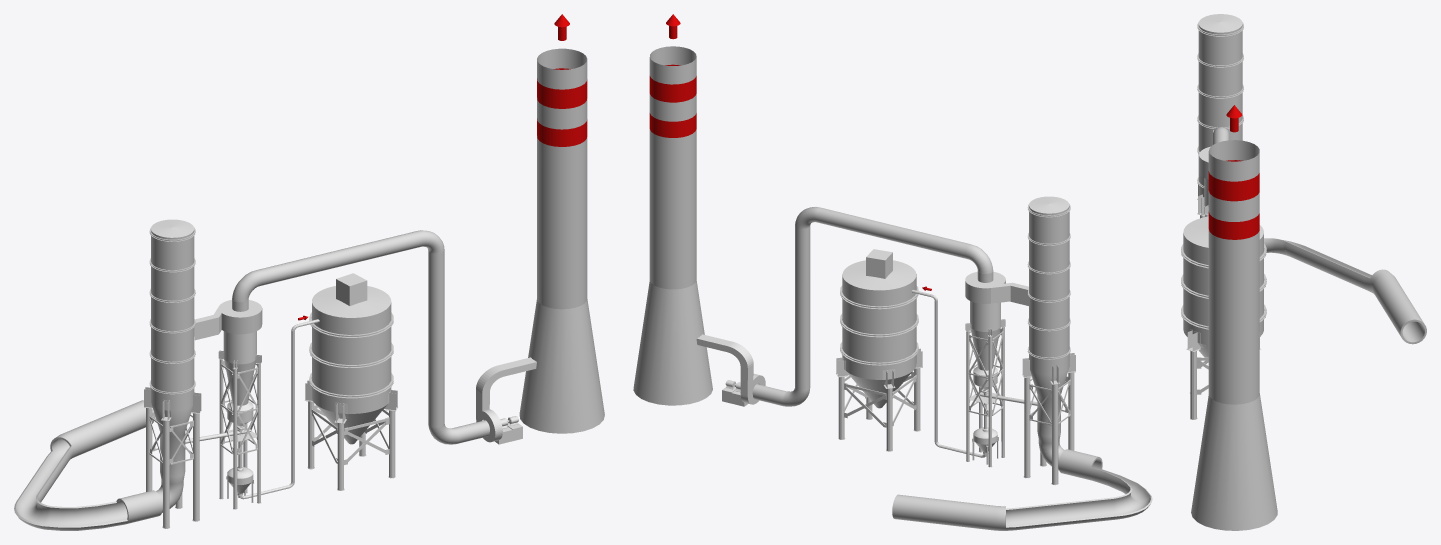
The model's file is Left lower image scene_v002.fbx.
3 renders of one model, left to right at view 1: azimuth 30°, elevation 25°; view 2: azimuth 150°, elevation 25°; view 3: azimuth 270°, elevation 25°, orthographic. The views are drawn at different scales.
Visible parts, largest first — view 1: polySurface906, polySurface908, polySurface907, polySurface894, polySurface909, polySurface49, polySurface769, polySurface36, polySurface284, polySurface650, polySurface764, polySurface690 (+1 smaller); view 2: polySurface906, polySurface909, polySurface908, polySurface907, polySurface894, polySurface49, polySurface769, polySurface36, polySurface735, polySurface801, polySurface714; view 3: polySurface906, polySurface907, polySurface908, polySurface909, polySurface49, polySurface647, polySurface36, polySurface65.
Boxes of the visible parts, x1,y1,x2,y2 form: polySurface906: [537, 48, 587, 309]; polySurface908: [151, 230, 194, 512]; polySurface907: [519, 298, 604, 433]; polySurface894: [232, 230, 489, 444]; polySurface909: [14, 400, 162, 530]; polySurface49: [312, 302, 391, 444]; polySurface769: [223, 331, 256, 405]; polySurface36: [312, 286, 391, 317]; polySurface284: [162, 420, 170, 528]; polySurface650: [193, 413, 199, 521]; polySurface764: [221, 308, 262, 334]; polySurface690: [223, 357, 261, 503]; polySurface906: [649, 46, 696, 289]; polySurface909: [892, 449, 1152, 530]; polySurface908: [1029, 206, 1069, 470]; polySurface907: [633, 280, 712, 405]; polySurface894: [752, 207, 993, 406]; polySurface49: [842, 274, 916, 408]; polySurface769: [970, 301, 1000, 370]; polySurface36: [842, 260, 916, 290]; polySurface735: [1051, 384, 1058, 485]; polySurface801: [696, 338, 753, 380]; polySurface714: [1023, 377, 1030, 478]; polySurface906: [1208, 140, 1259, 404]; polySurface907: [1191, 393, 1277, 530]; polySurface908: [1198, 24, 1242, 197]; polySurface909: [1264, 238, 1426, 344]; polySurface49: [1183, 233, 1263, 361]; polySurface647: [1198, 14, 1242, 32]; polySurface36: [1183, 216, 1263, 247]; polySurface65: [1190, 351, 1197, 419].
Bounding box in the file's own units: 194 × 133 × 72.33.
